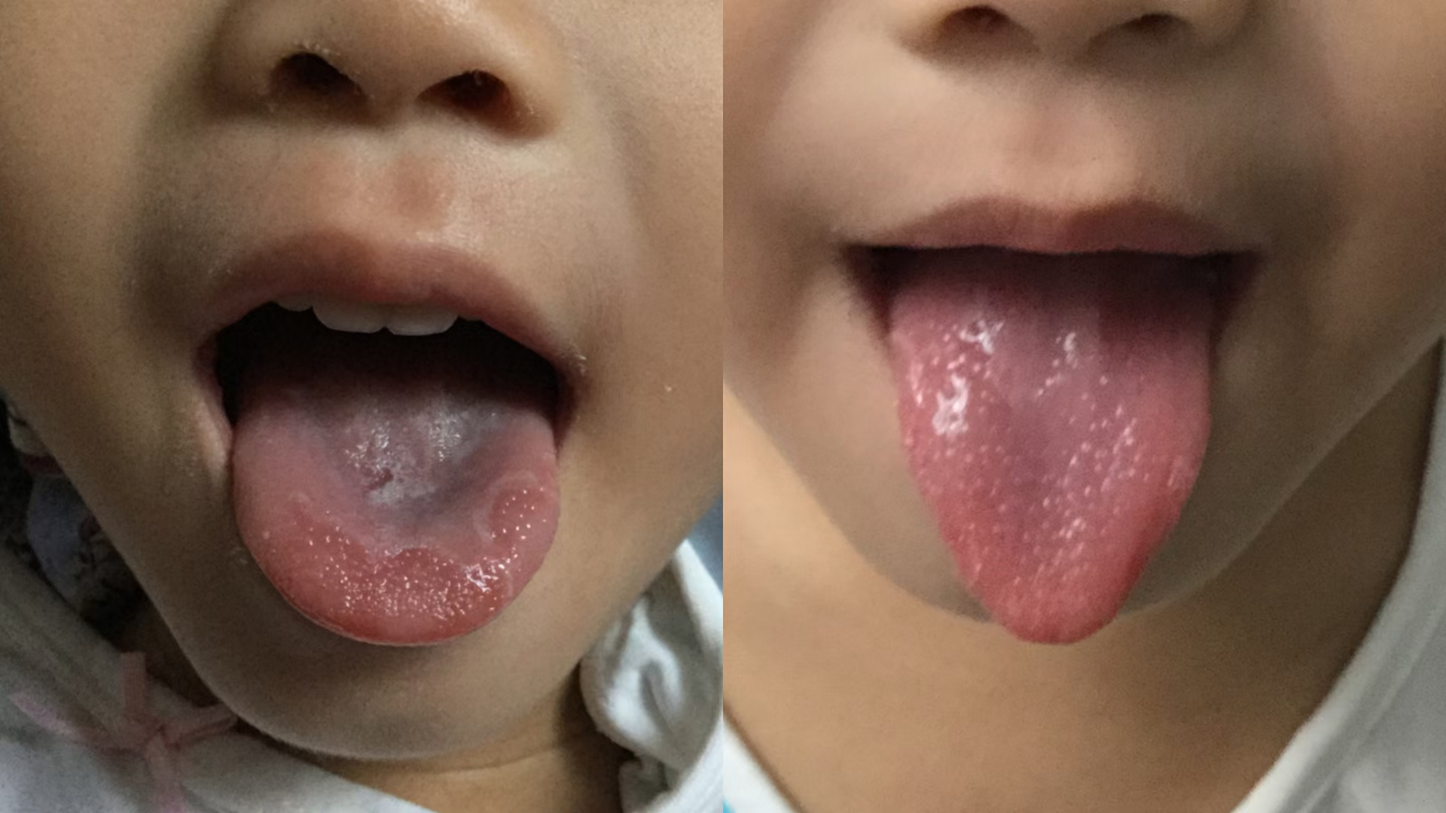baitaishe: (231, 349, 562, 646)
botaishe: (270, 495, 464, 646), (468, 470, 560, 570)
hongshe: (889, 262, 1213, 646), (231, 349, 562, 645)
huataishe: (946, 333, 1147, 555), (313, 534, 457, 611)
